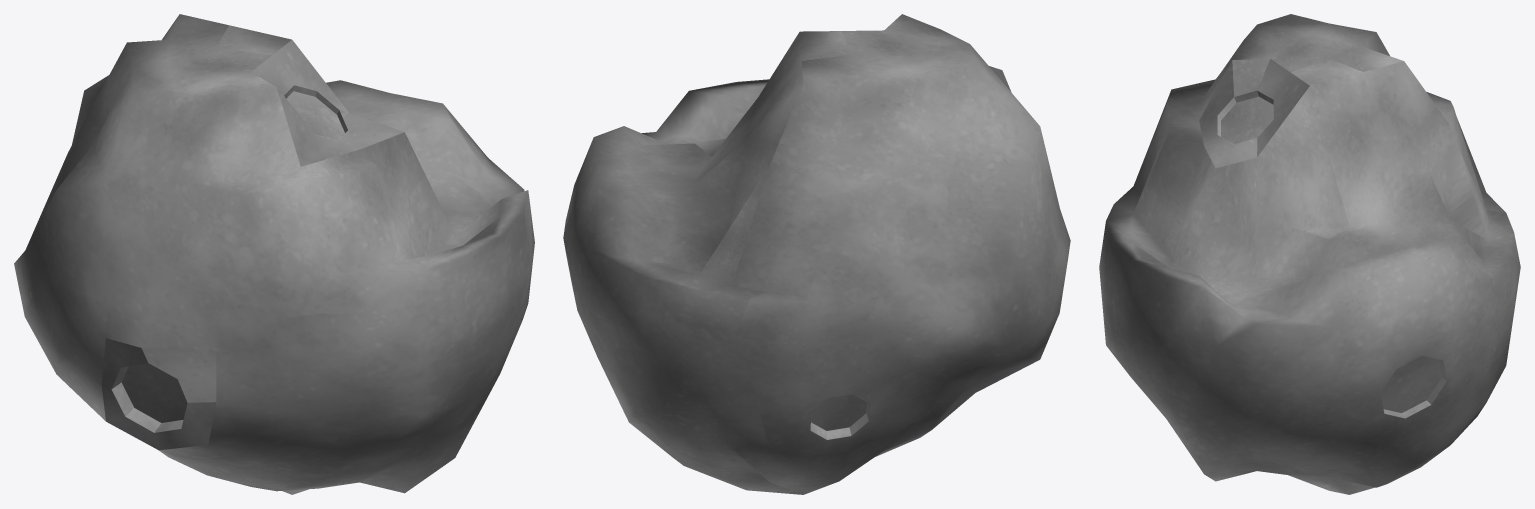
File: meteor.gltf
The picture shows the model from 3 angles, left to right: view 1: azimuth 30°, elevation 25°; view 2: azimuth 150°, elevation 25°; view 3: azimuth 270°, elevation 25°; orthographic projection. The views are drawn at different scales.
Visible parts, largest first — view 1: Asteroid; view 2: Asteroid; view 3: Asteroid.
Boxes of the visible parts, bbox=[...] form: Asteroid: bbox=[14, 14, 534, 494]; Asteroid: bbox=[563, 14, 1070, 494]; Asteroid: bbox=[1099, 14, 1520, 494].
Bounding box in the file's own units: 2.59 × 2.48 × 2.4.
1 material, 1 textured.
